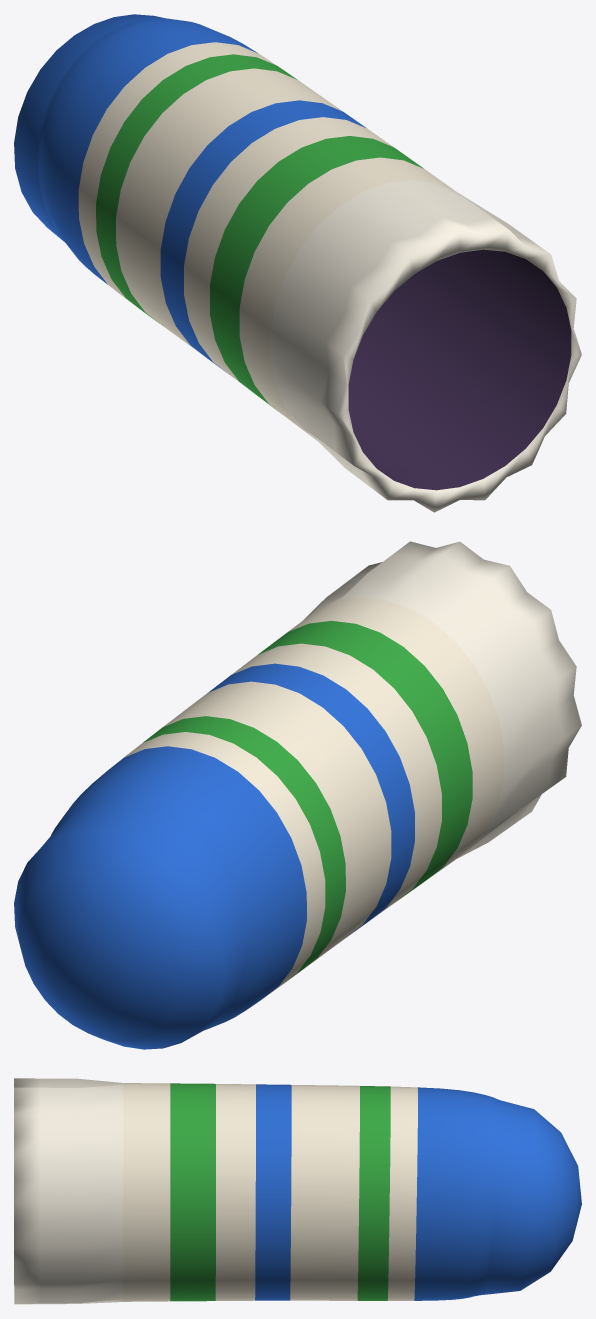
File: sockTunnel.fbx
3 views of the same model, one above another, from view 1: azimuth 30°, elevation 25°; view 2: azimuth 150°, elevation 25°; view 3: azimuth 270°, elevation 25° (orthographic). The views are drawn at different scales.
Parts seen in each view (by area): view 1: sockTunnel; view 2: sockTunnel; view 3: sockTunnel.
Part boxes in pixels (x1=…): sockTunnel: x1=14, y1=14, x2=581, y2=512; sockTunnel: x1=14, y1=541, x2=581, y2=1049; sockTunnel: x1=14, y1=1078, x2=581, y2=1304.
Bounding box in the file's own units: 2.32 × 2.51 × 6.21.
